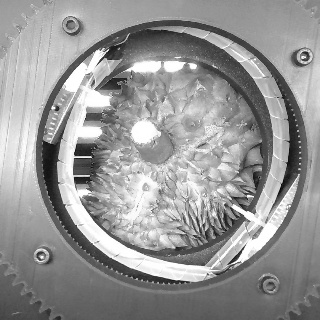base: (134, 139, 181, 170)
end: (130, 119, 162, 145)
